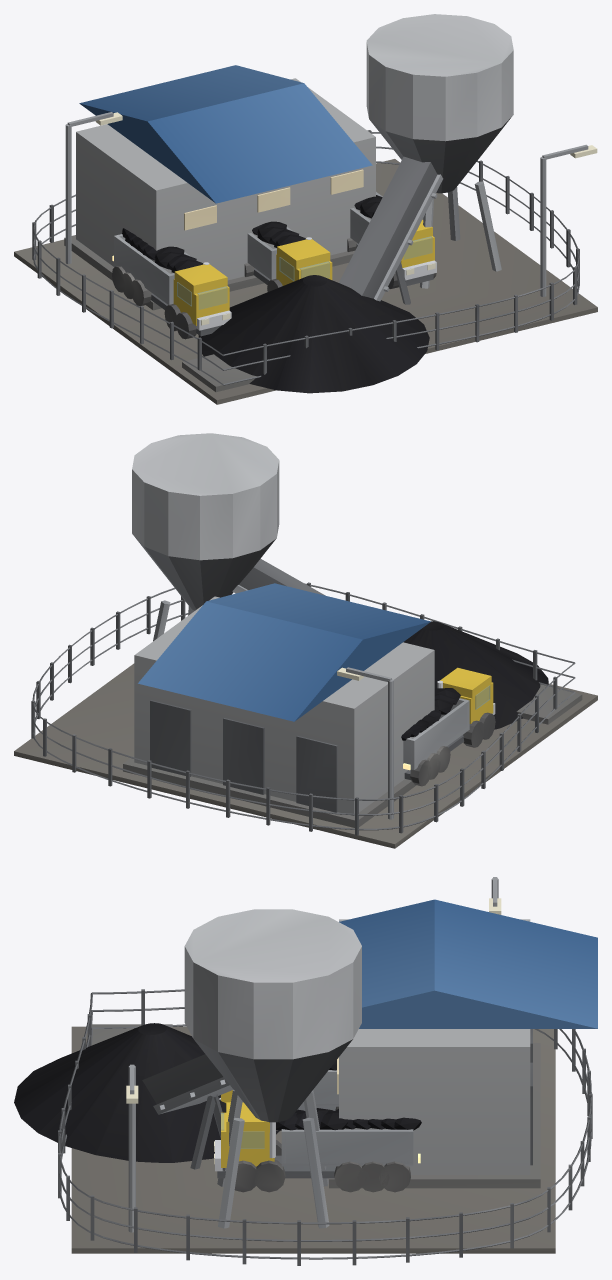
File: Haul_P2.fbx
3 renders of one model, top to bottom at view 1: azimuth 30°, elevation 25°; view 2: azimuth 150°, elevation 25°; view 3: azimuth 270°, elevation 25°, orthographic. The views are drawn at different scales.
Parts seen in each view (by area): view 1: Haul.Workshop, Haul.Yard, Haul.Hopper, Haul.Stock, Haul.Parked0, Haul.Fence, Haul.Conv, Haul.Parked1, Haul.Parked2, Haul.Weighbridge, Haul.Lamp1, Haul.Lamp0; view 2: Haul.Workshop, Haul.Hopper, Haul.Yard, Haul.Fence, Haul.Parked0, Haul.Stock, Haul.Lamp1, Haul.Weighbridge, Haul.Conv; view 3: Haul.Workshop, Haul.Yard, Haul.Hopper, Haul.Stock, Haul.Parked2, Haul.Fence, Haul.Conv, Haul.Lamp0, Haul.Parked1, Haul.Weighbridge.
Part boxes in pixels (x1=…): Haul.Workshop: x1=64, y1=65, x2=375, y2=310; Haul.Yard: x1=14, y1=159, x2=597, y2=404; Haul.Hopper: x1=366, y1=14, x2=513, y2=288; Haul.Stock: x1=198, y1=275, x2=429, y2=393; Haul.Parked0: x1=112, y1=228, x2=231, y2=339; Haul.Fence: x1=32, y1=130, x2=579, y2=385; Haul.Conv: x1=339, y1=156, x2=443, y2=304; Haul.Parked1: x1=244, y1=221, x2=332, y2=291; Haul.Parked2: x1=347, y1=192, x2=436, y2=288; Haul.Weighbridge: x1=182, y1=354, x2=256, y2=392; Haul.Lamp1: x1=65, y1=112, x2=122, y2=264; Haul.Lamp0: x1=540, y1=144, x2=597, y2=296; Haul.Workshop: x1=123, y1=583, x2=434, y2=827; Haul.Hopper: x1=132, y1=433, x2=279, y2=641; Haul.Yard: x1=14, y1=663, x2=597, y2=848; Haul.Fence: x1=31, y1=582, x2=575, y2=835; Haul.Parked0: x1=401, y1=667, x2=495, y2=786; Haul.Stock: x1=403, y1=621, x2=548, y2=729; Haul.Lamp1: x1=337, y1=667, x2=393, y2=819; Haul.Weighbridge: x1=516, y1=684, x2=582, y2=724; Haul.Conv: x1=232, y1=558, x2=325, y2=595; Haul.Workshop: x1=329, y1=899, x2=597, y2=1188; Haul.Yard: x1=71, y1=1026, x2=555, y2=1253; Haul.Hopper: x1=184, y1=909, x2=361, y2=1228; Haul.Stock: x1=14, y1=1023, x2=280, y2=1162; Haul.Parked2: x1=214, y1=1102, x2=421, y2=1192; Haul.Fence: x1=58, y1=989, x2=592, y2=1265; Haul.Conv: x1=142, y1=1054, x2=233, y2=1169; Haul.Lamp0: x1=126, y1=1064, x2=138, y2=1232; Haul.Parked1: x1=219, y1=1060, x2=338, y2=1130; Haul.Weighbridge: x1=92, y1=1024, x2=172, y2=1045.
Size of the model in its own units: 2895 by 1456 by 2897.
